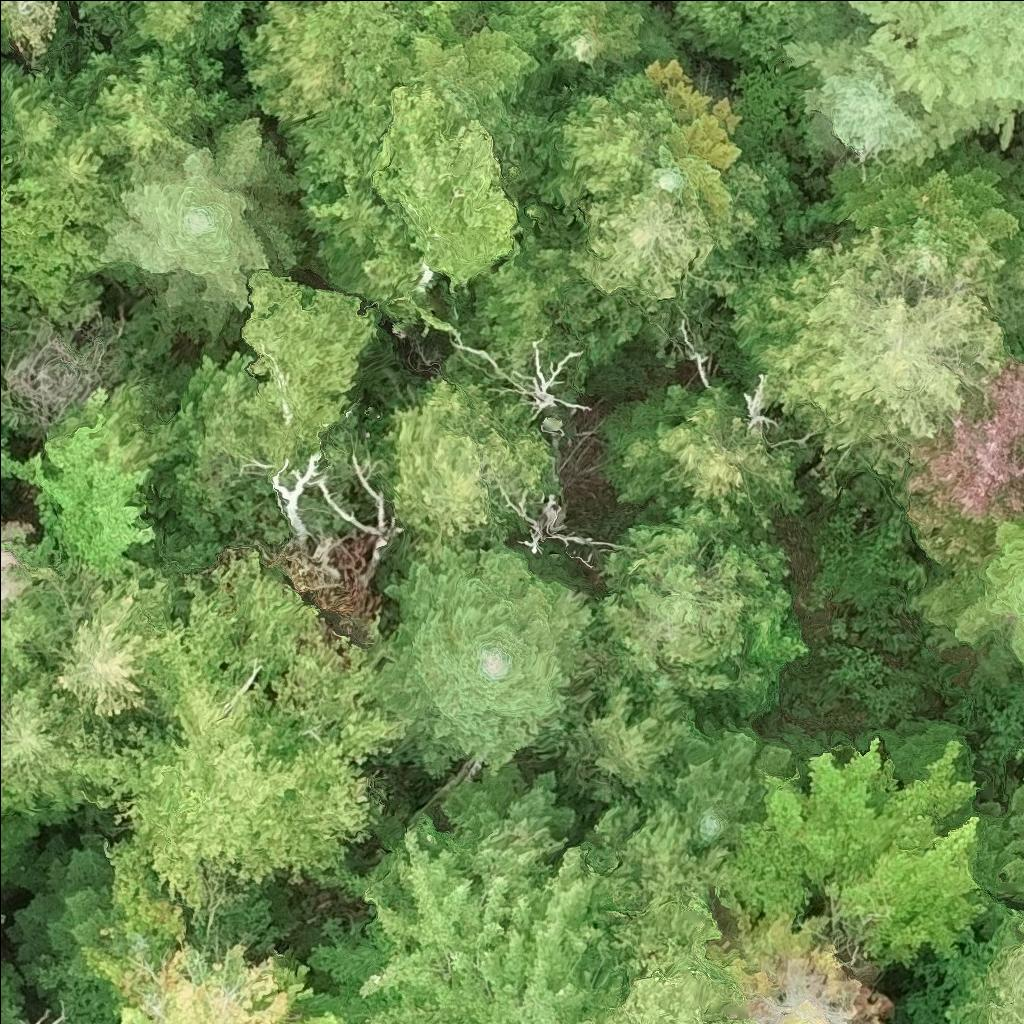crown: (82, 542, 410, 912), (743, 226, 1023, 500), (296, 814, 625, 1023), (731, 733, 1001, 962), (375, 538, 595, 776), (97, 112, 309, 342), (780, 0, 1023, 170), (578, 496, 777, 702), (580, 789, 746, 1023), (377, 80, 518, 296), (381, 372, 553, 548), (891, 356, 1023, 571), (614, 390, 804, 538), (825, 136, 1023, 278), (244, 273, 379, 472), (5, 408, 161, 580), (2, 835, 162, 994), (283, 0, 414, 190), (566, 184, 759, 303), (79, 942, 349, 1023), (628, 714, 791, 847), (533, 66, 673, 207), (908, 513, 1023, 665), (0, 666, 104, 826), (644, 58, 746, 219), (901, 895, 1023, 1023), (92, 46, 225, 163), (49, 565, 147, 719), (236, 0, 352, 121), (548, 0, 687, 98), (586, 668, 698, 786), (669, 0, 858, 66), (17, 108, 123, 221), (800, 71, 919, 158), (0, 65, 93, 155), (118, 0, 213, 58), (977, 782, 1023, 901), (0, 515, 34, 613), (0, 963, 25, 1023), (74, 0, 124, 19), (289, 0, 320, 6), (256, 0, 269, 11)
